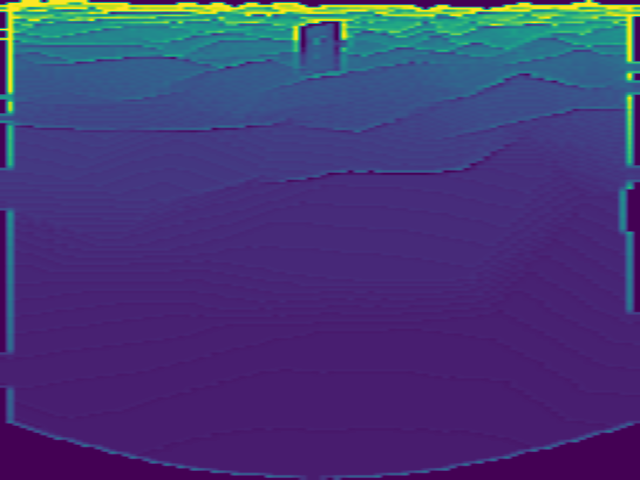car_0198: (292, 21, 344, 73)
